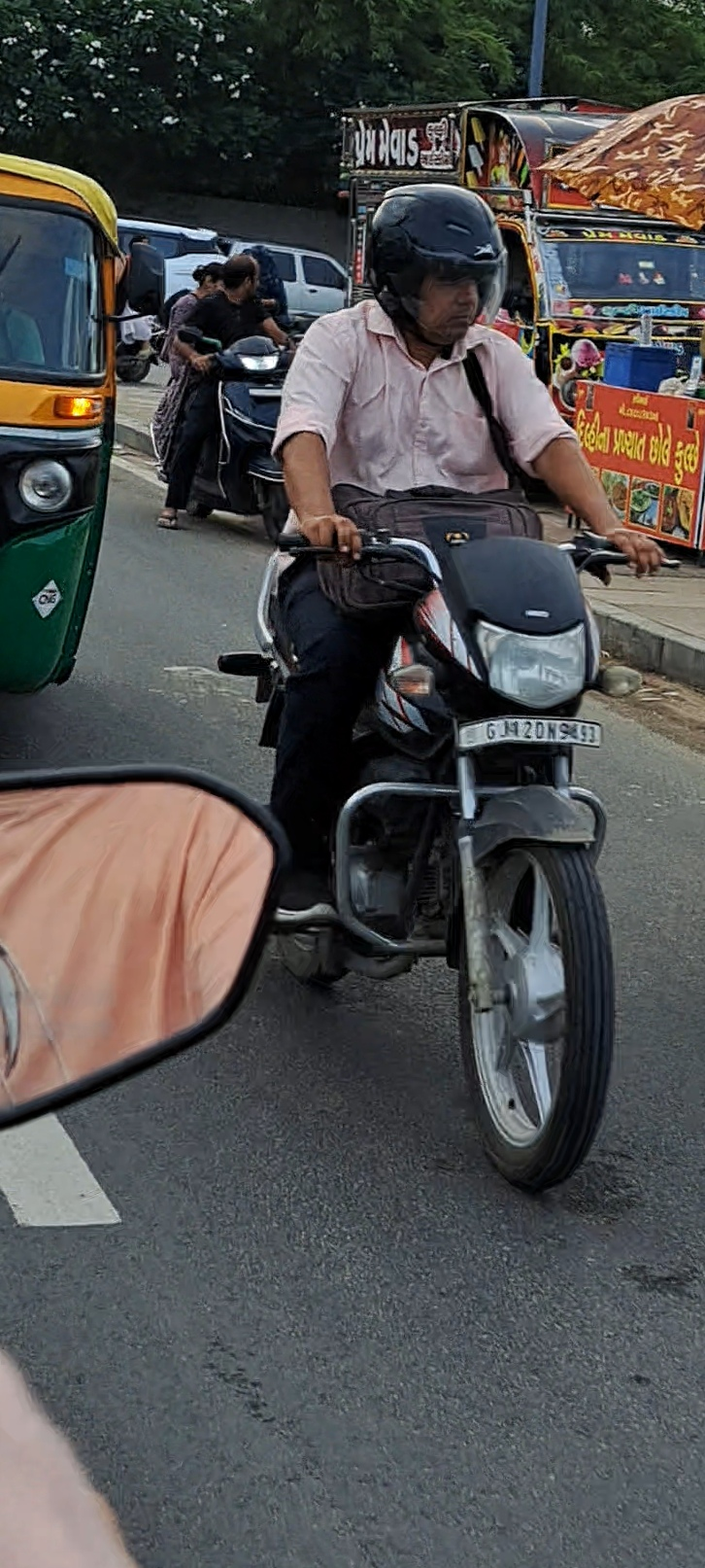BikeWithRider: (209, 163, 679, 1211), (136, 238, 312, 551)
Helmet: (349, 171, 518, 361)
NoHelmet: (212, 247, 266, 306), (192, 259, 228, 299)
